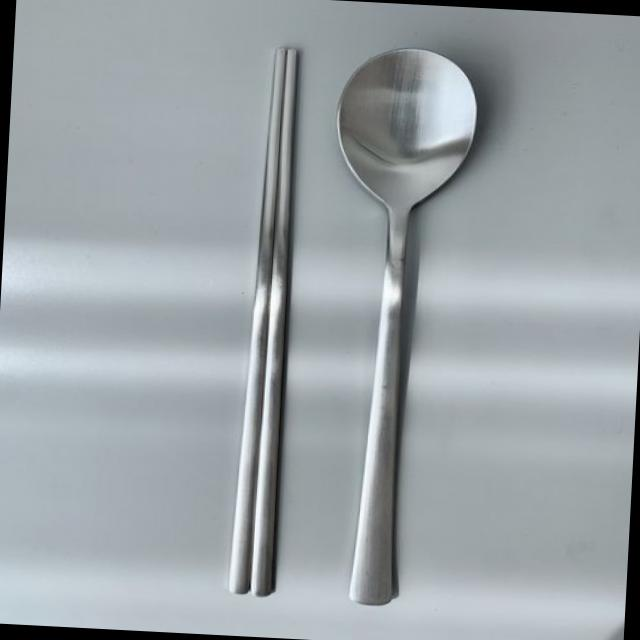spoon: (298, 37, 488, 636)
